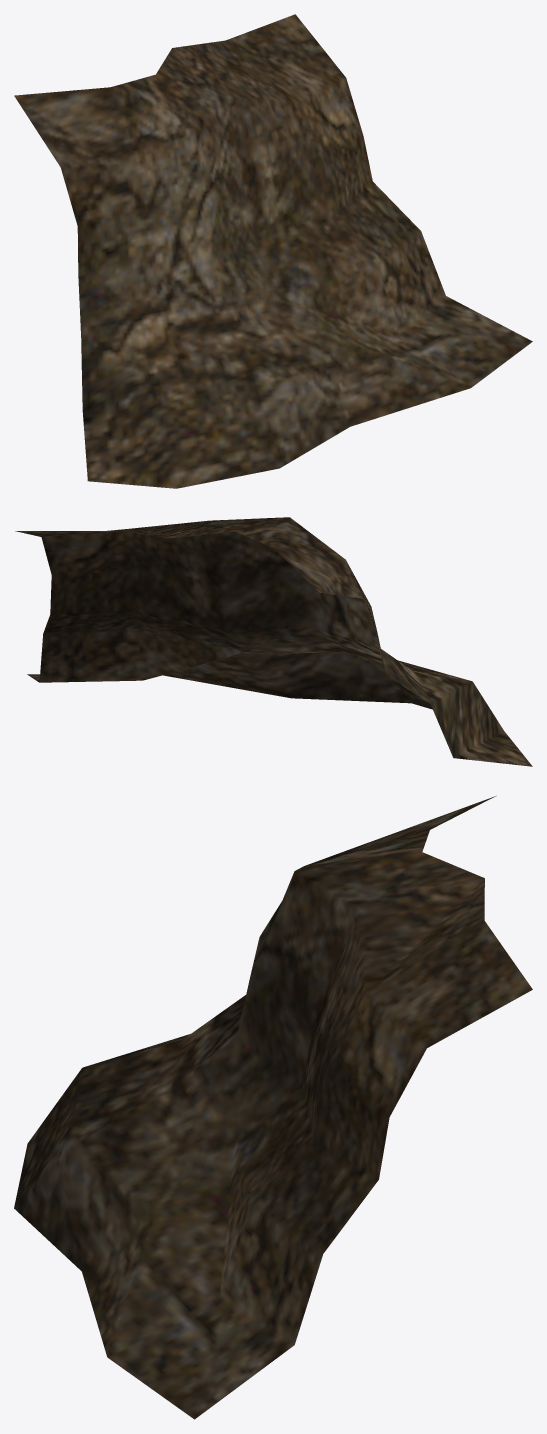
The picture shows the model from 3 angles, top to bottom: view 1: azimuth 30°, elevation 25°; view 2: azimuth 150°, elevation 25°; view 3: azimuth 270°, elevation 25°; orthographic projection. The views are drawn at different scales.
Parts seen in each view (by area): view 1: a81; view 2: a81; view 3: a81.
Boxes of the visible parts, x1,y1,x2,y2 form: a81: (14, 14, 532, 488); a81: (15, 517, 532, 766); a81: (14, 795, 532, 1419).
Size of the model in its own units: 2653 by 1471 by 1849.
Materials: 1 (1 with a texture image).
